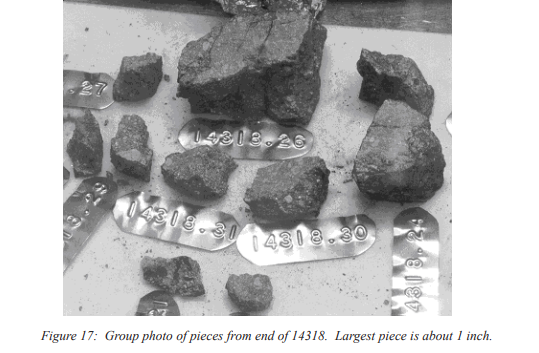Breccia: (10, 105, 336, 205), (175, 9, 321, 123), (377, 49, 442, 217), (87, 254, 283, 304), (106, 42, 133, 99)
